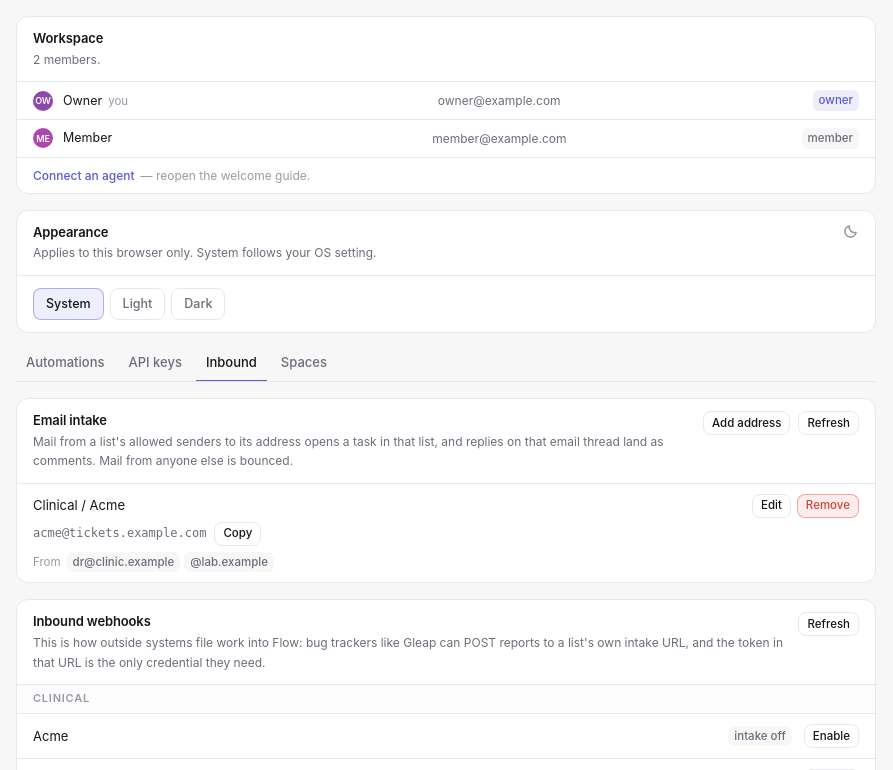
Test: Email intake settings › removes an intake only after the confirm step
Click the button "Remove" at (828, 506), box [797, 494, 859, 518]
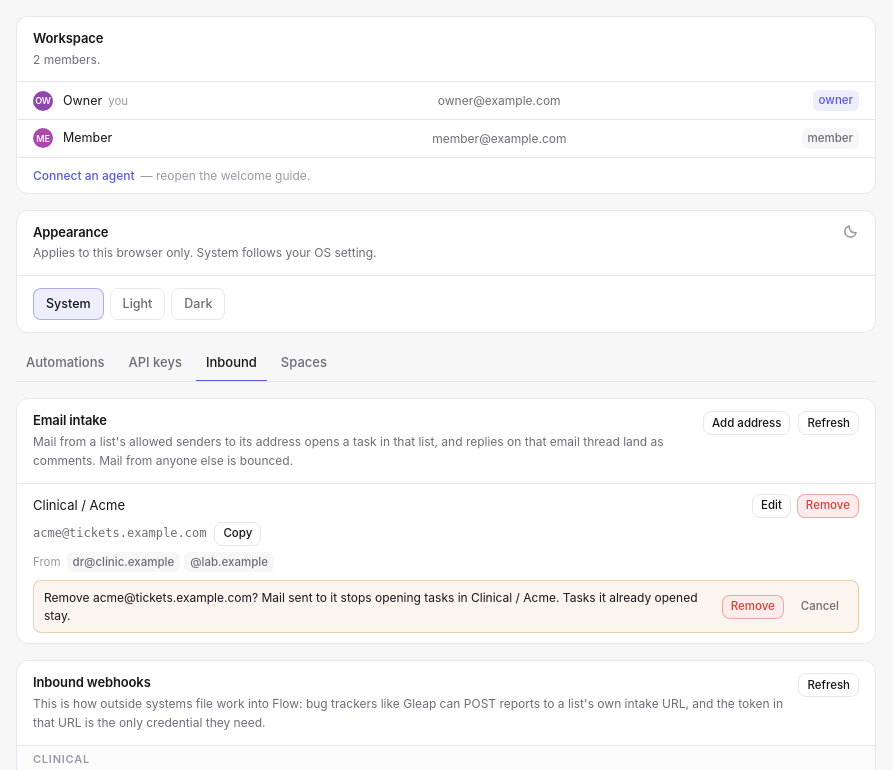
Check: the text "Remove acme@tickets.example.com?" is shown, box [44, 590, 698, 623]
Click the 2nd button "Remove" at (753, 607), box [722, 595, 784, 619]
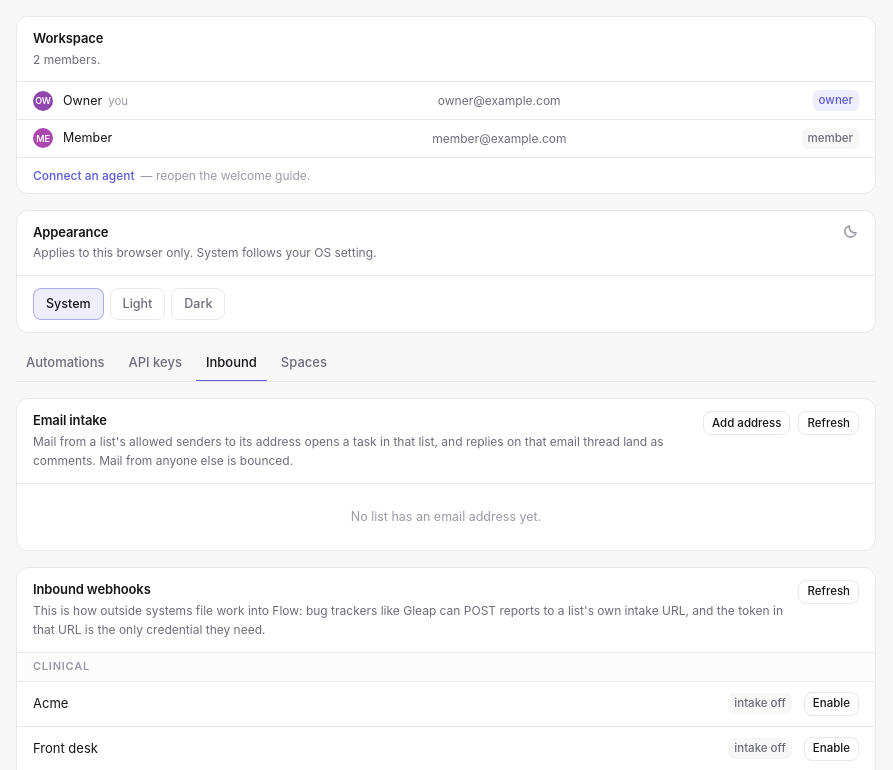
Check: the text "acme@tickets.example.com" is gone
Check: the text "No list has an email address yet." is shown, box [351, 509, 541, 524]
